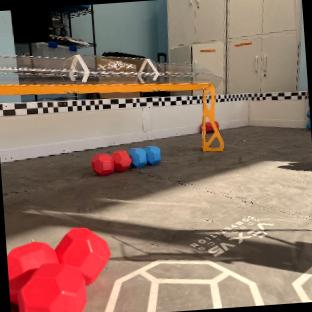V5_BLUE: (127, 145, 160, 167), (306, 109, 310, 130)
V5_RED: (7, 227, 110, 312), (91, 150, 131, 175), (205, 121, 213, 132), (215, 121, 218, 127)
